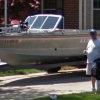Boat: (1, 10, 91, 76)
